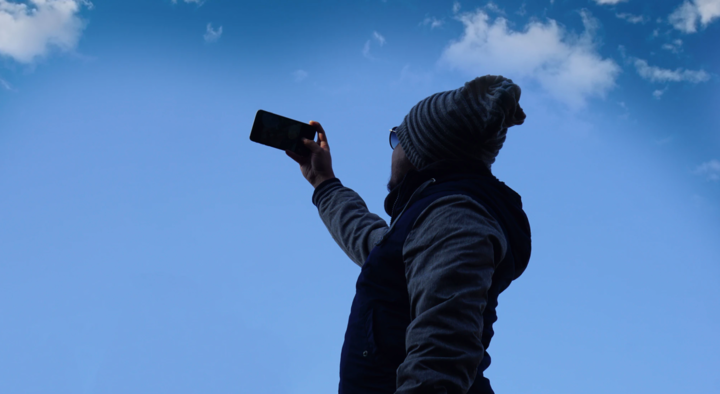taking photos: (247, 104, 335, 184)
